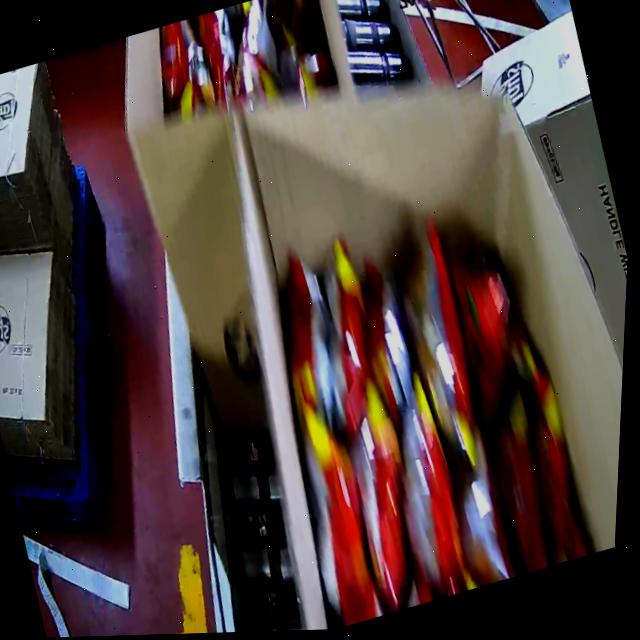MASALA: (239, 174, 621, 631), (137, 0, 333, 130)
